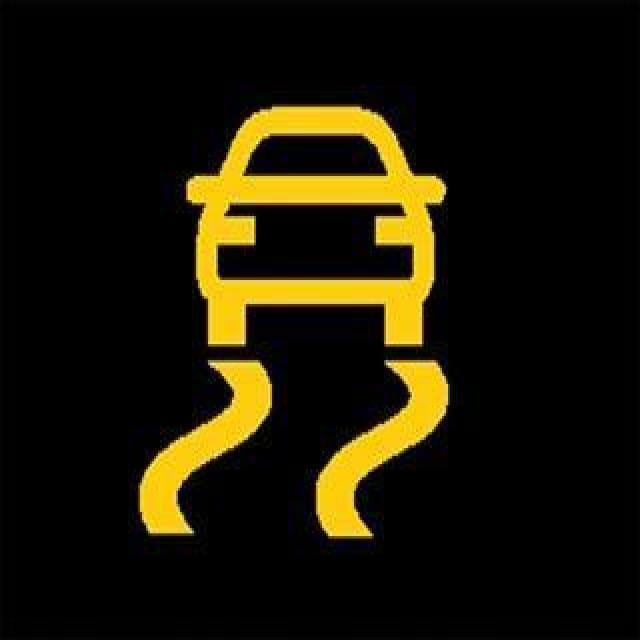kontrolka: (94, 88, 494, 584)
